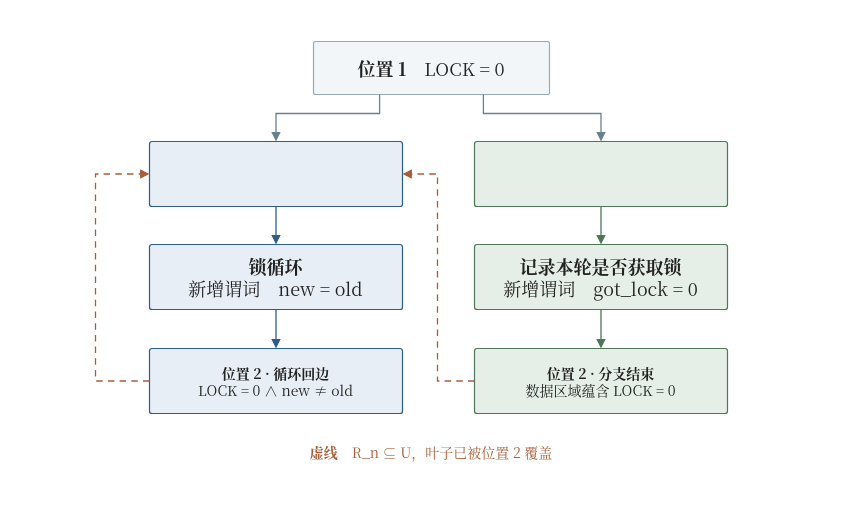
Some shapes in this 862 by 506 pixel diagram are drawn without their labels. The box of each missing label's shape, as (x1, y1, x2, y2) in pixels:
位置 2 · 已展开 LOCK = 0: (148, 140, 403, 207)
位置 7 · 可选分支 LOCK = 0: (473, 140, 728, 207)
